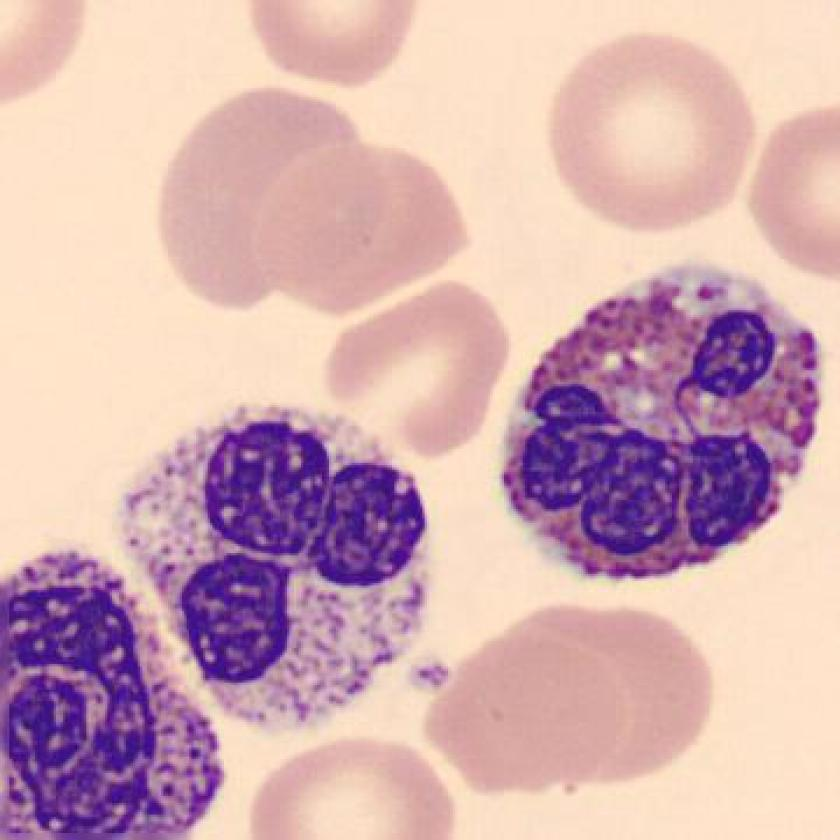eosinophil: (489, 253, 836, 584)
